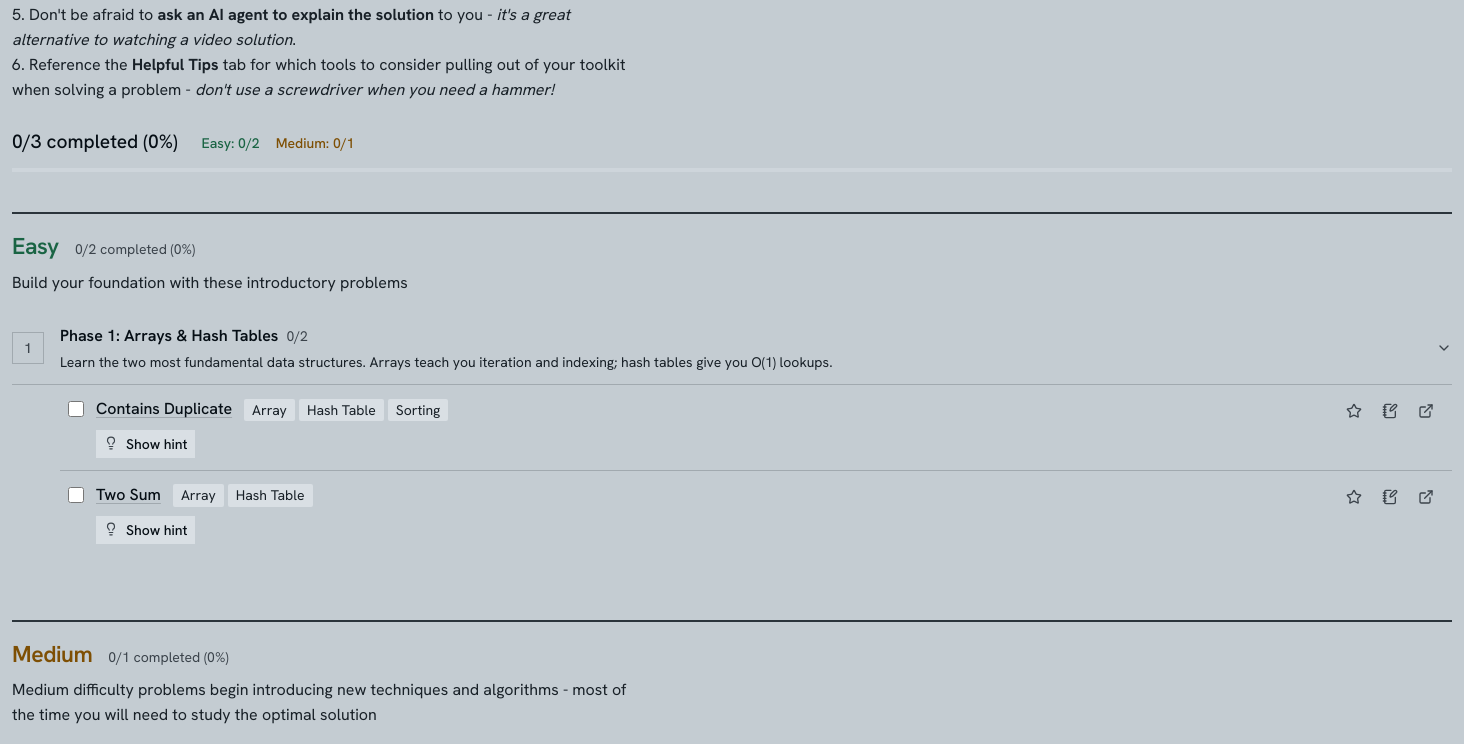
RoadmapView › shows pre-populated notes with lightbulb
(page scrolled)
# Click the first "Show hint" button (contains-duplicate appears first)
Click the button "Show hint" below "Contains Duplicate" at (146, 444), box [96,430,196,458]
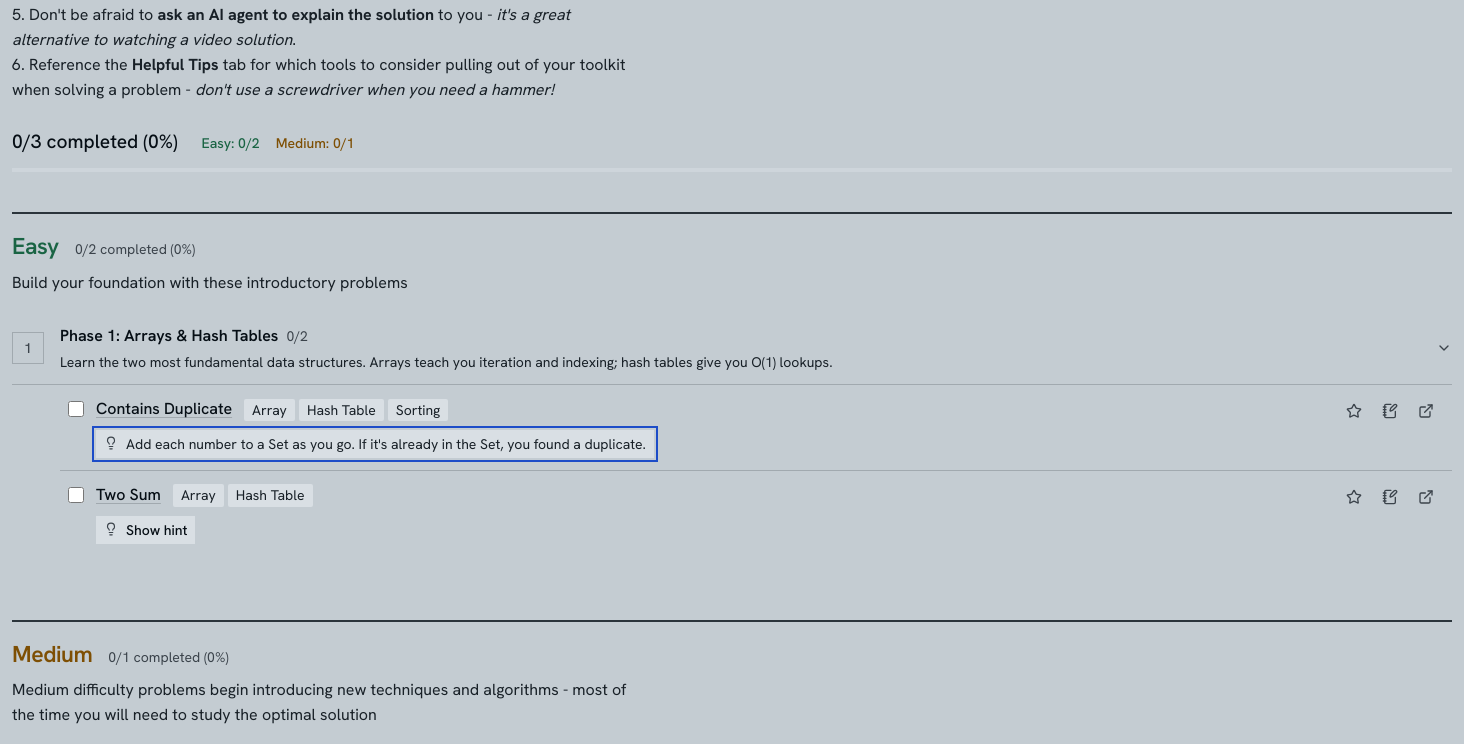
Now the text "Add each number to a Set as you go. If it's already in the Set, you found a duplicate." is shown, box [126,435,646,453]
